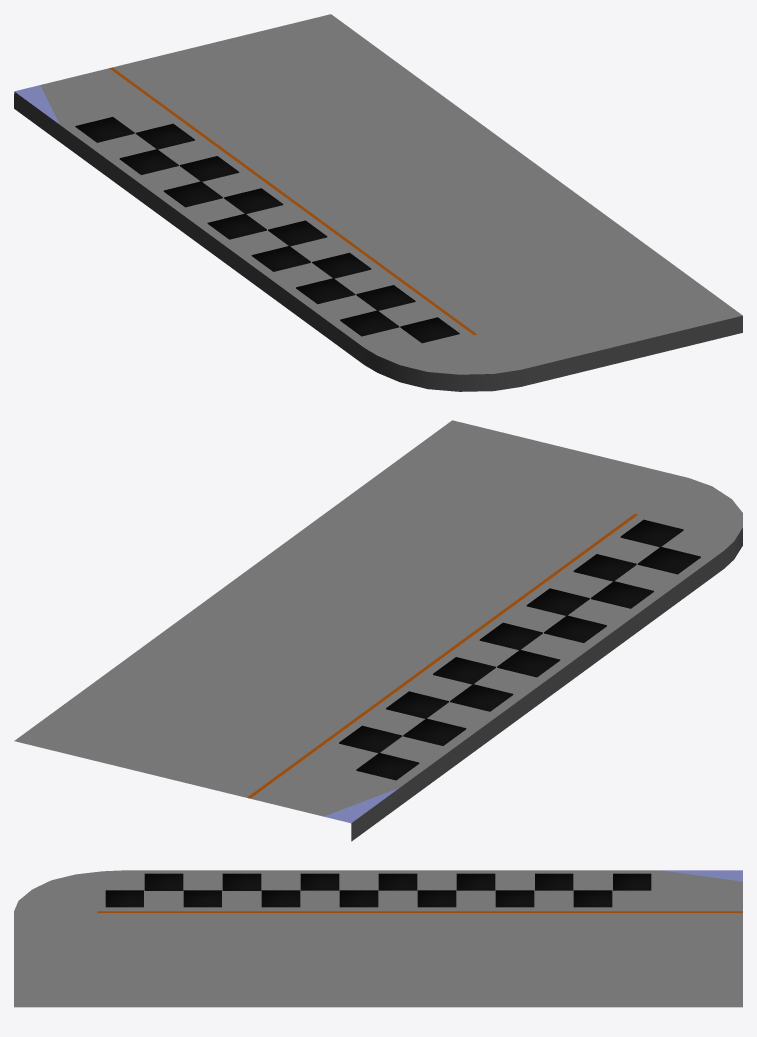
Rendered from W_M_maze_003_4x9_BottomConner_b_L1.fbx.
The picture shows the model from 3 angles, top to bottom: view 1: azimuth 30°, elevation 25°; view 2: azimuth 150°, elevation 25°; view 3: azimuth 270°, elevation 25°; orthographic projection. The views are drawn at different scales.
Visible parts, largest first — view 1: W_M_maze_003_4x9_BottomConner_b_L1; view 2: W_M_maze_003_4x9_BottomConner_b_L1; view 3: W_M_maze_003_4x9_BottomConner_b_L1.
Part boxes in pixels (left/top/right/bottom): W_M_maze_003_4x9_BottomConner_b_L1: left=14, top=14, right=742, bottom=391; W_M_maze_003_4x9_BottomConner_b_L1: left=14, top=420, right=742, bottom=841; W_M_maze_003_4x9_BottomConner_b_L1: left=14, top=870, right=742, bottom=1007.
Size of the model in its own units: 4 by 0.2203 by 9.
